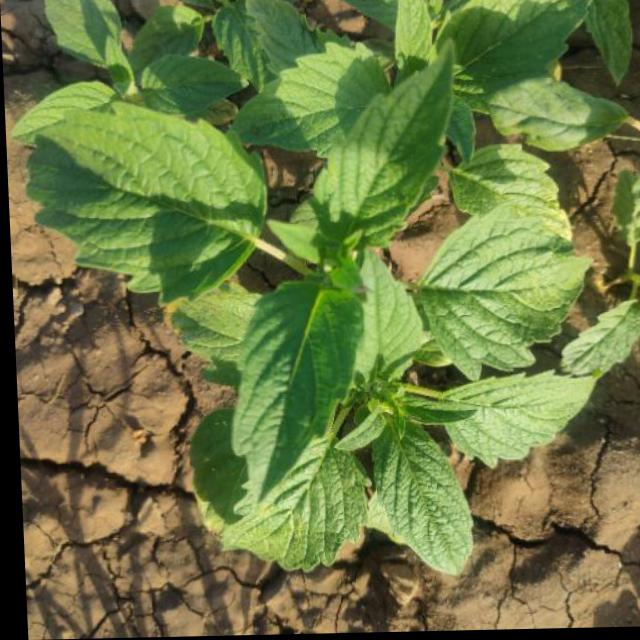crop: (26, 0, 640, 582)
